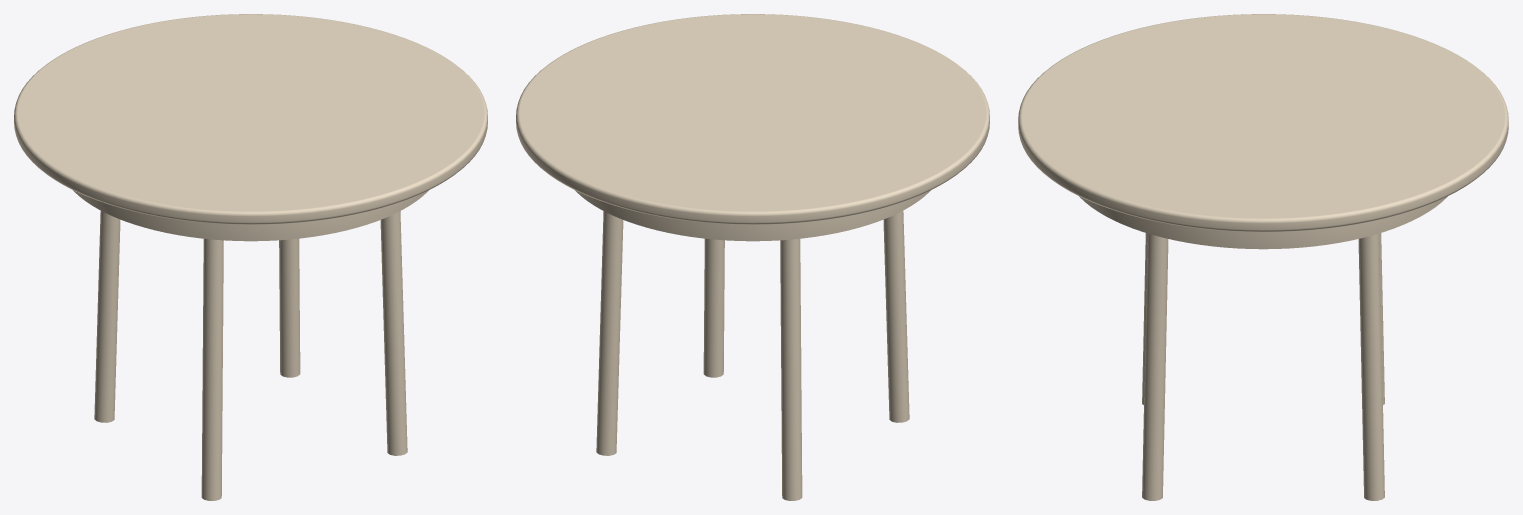
File: round_table.glb
The picture shows the model from 3 angles, left to right: view 1: azimuth 30°, elevation 25°; view 2: azimuth 150°, elevation 25°; view 3: azimuth 270°, elevation 25°; orthographic projection. The views are drawn at different scales.
Parts seen in each view (by area): view 1: top, leg2, leg3, apron, leg1, leg0; view 2: top, leg1, leg0, apron, leg2, leg3; view 3: top, leg0, leg3, apron.
Part boxes in pixels (left/top/right/bottom): top: left=14, top=14, right=487, bottom=224; leg2: left=201, top=238, right=223, bottom=500; leg3: left=380, top=211, right=407, bottom=455; apron: left=73, top=190, right=428, bottom=241; leg1: left=94, top=211, right=120, bottom=422; leg0: left=279, top=238, right=300, bottom=377; top: left=516, top=14, right=989, bottom=224; leg1: left=780, top=238, right=802, bottom=500; leg0: left=596, top=211, right=623, bottom=455; apron: left=575, top=190, right=930, bottom=241; leg2: left=883, top=211, right=909, bottom=422; leg3: left=703, top=238, right=724, bottom=377; top: left=1018, top=14, right=1508, bottom=231; leg0: left=1358, top=233, right=1384, bottom=500; leg3: left=1142, top=233, right=1168, bottom=500; apron: left=1079, top=196, right=1447, bottom=249.
Bounding box in the file's own units: 1 × 0.7506 × 1.
